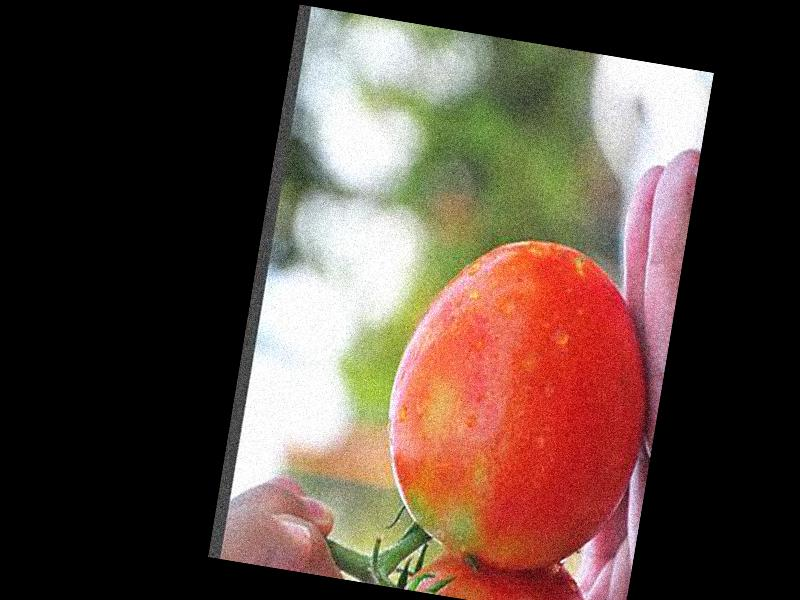Tomato: (366, 222, 668, 584)
